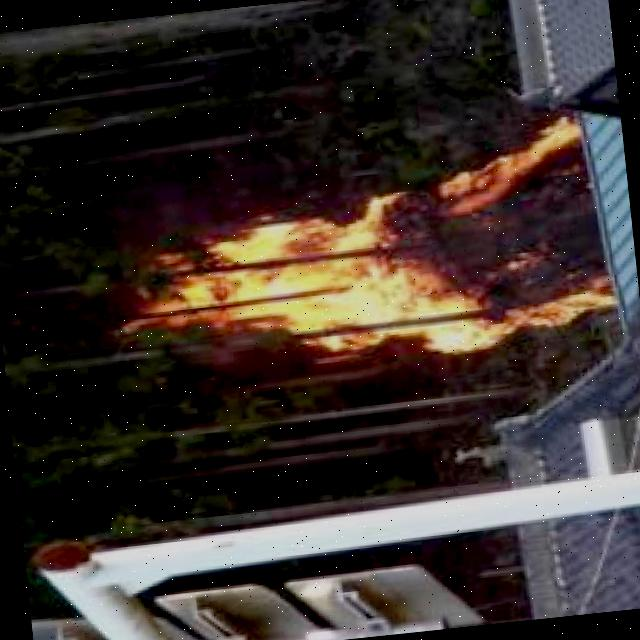fire: (99, 109, 615, 415)
